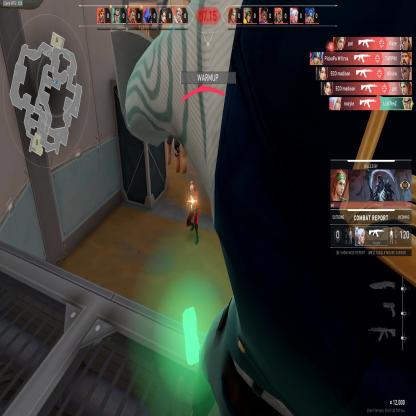enemy: (185, 179, 199, 247)
